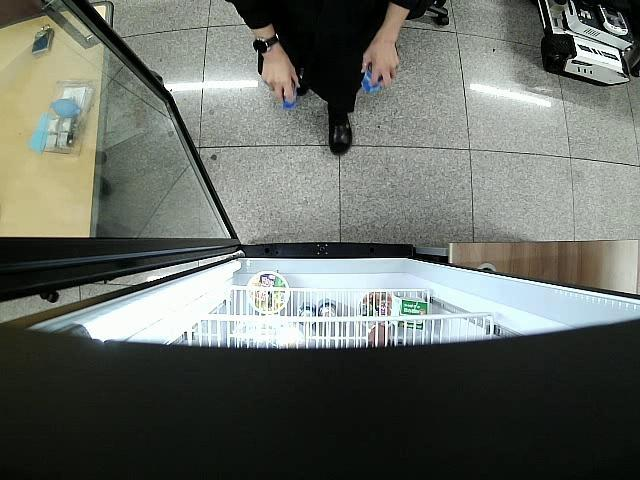15_letsbe: (362, 70, 384, 94), (283, 85, 298, 112)
